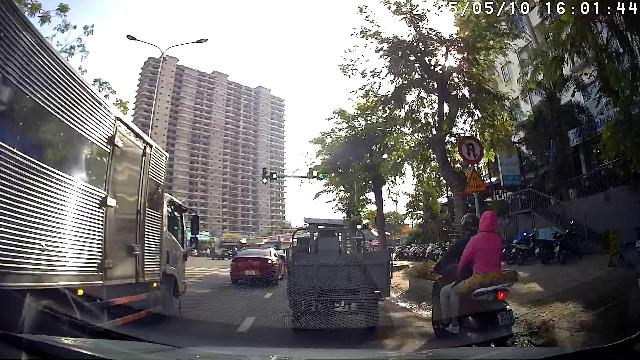124a-cam-quay-dau-xe: (460, 136, 484, 164)
